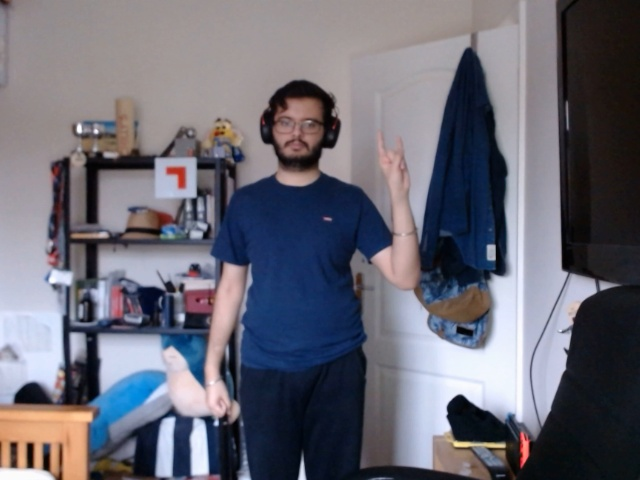Rock on: (367, 118, 426, 193)
